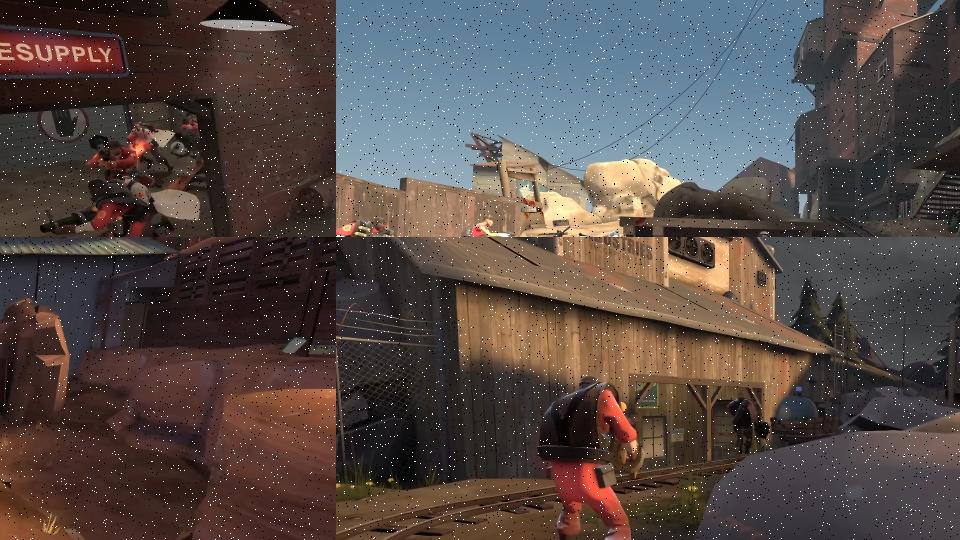Enemy: (536, 373, 645, 540), (39, 178, 153, 237), (109, 172, 201, 237), (83, 135, 142, 188), (727, 390, 771, 454), (126, 121, 178, 175), (336, 215, 417, 237), (454, 212, 516, 237), (571, 228, 631, 237)
